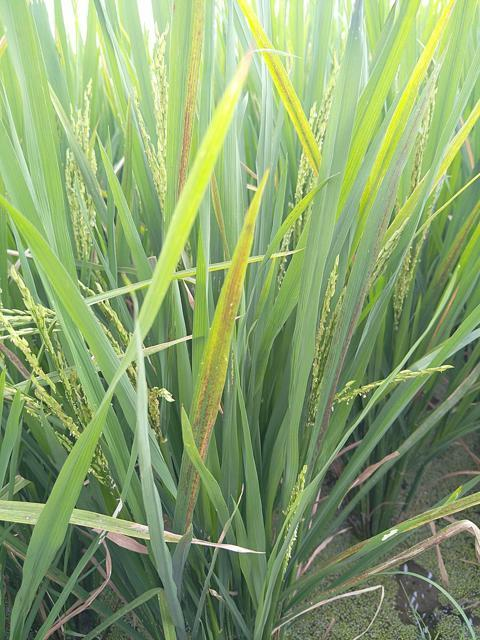Leaf Streak: (189, 168, 270, 468), (307, 267, 369, 479), (177, 0, 204, 189), (433, 204, 479, 287), (173, 451, 201, 537)
